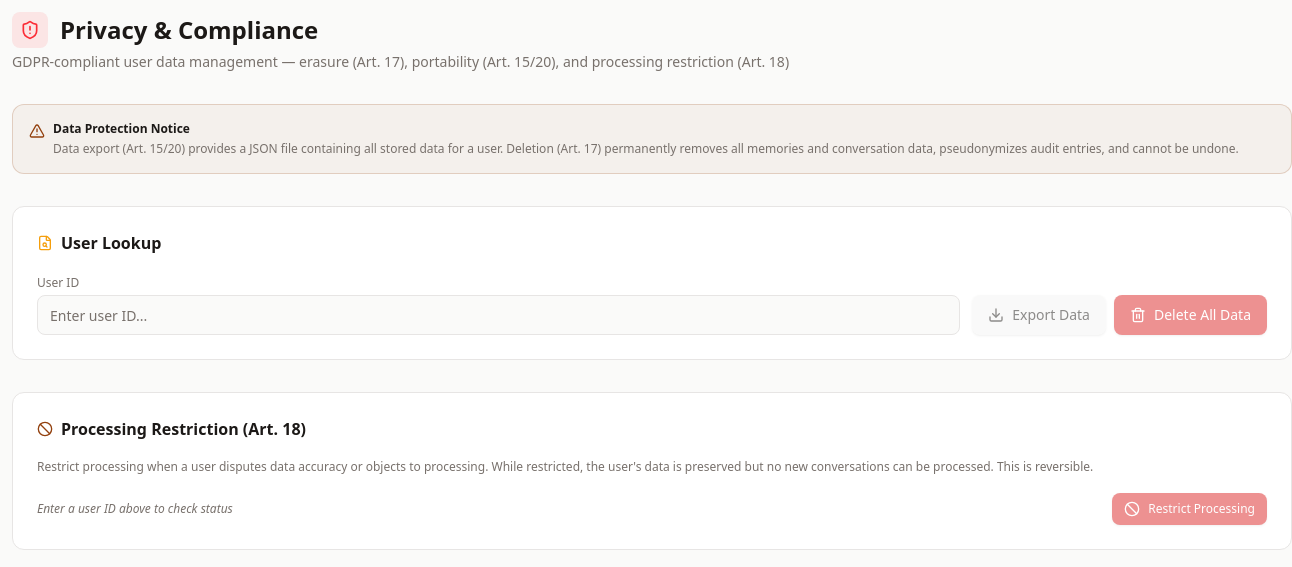
GDPR Privacy Admin Page › restrict toggle button is enabled after entering user ID
The width and height of the screenshot is (1292, 567).
Type "test-user" into the field with test id "gdpr-user-id" at (499, 315), box [37,295,960,335]
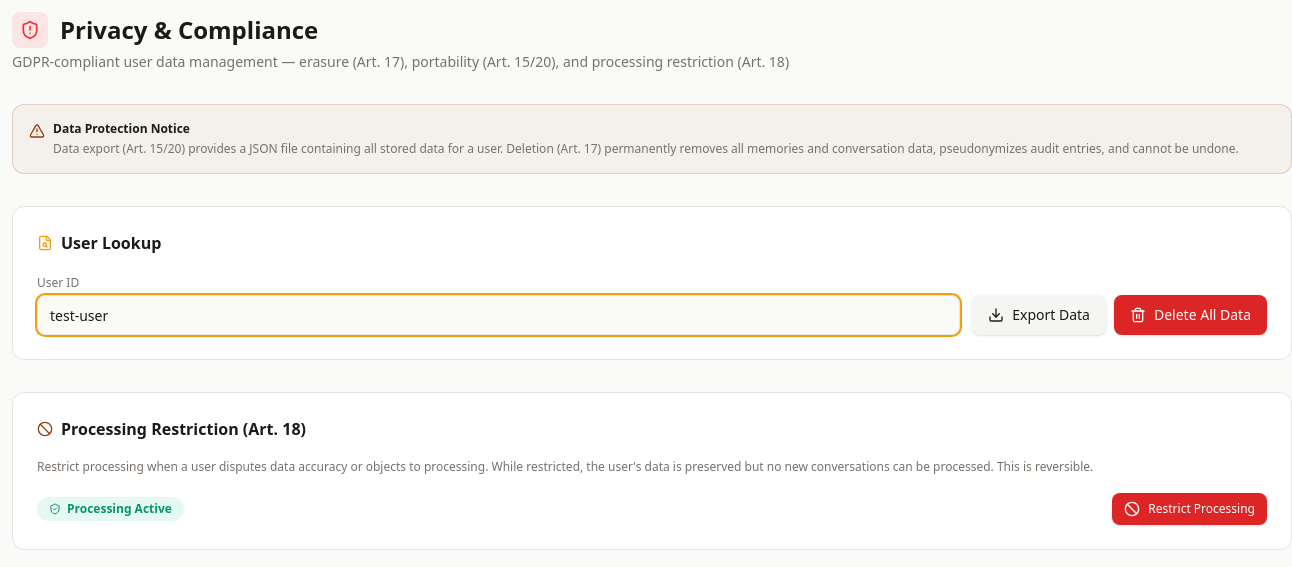
Check: the button with test id "gdpr-restrict-toggle" is enabled, box [1112,492,1267,524]
